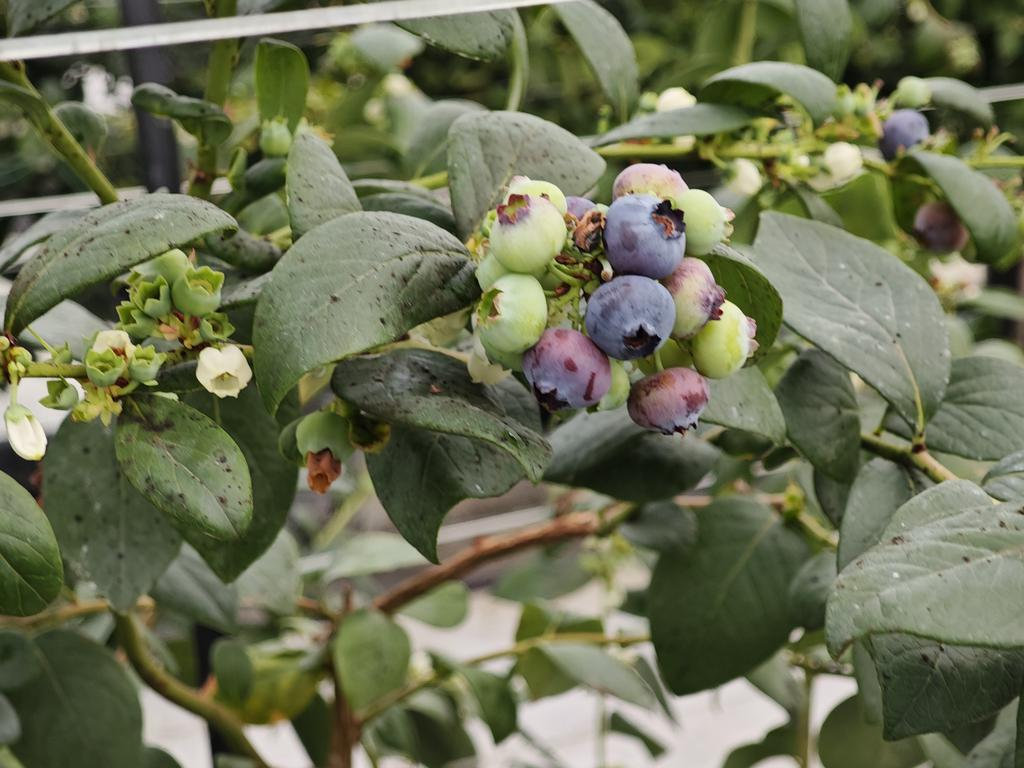RipeBlueBerry: (586, 273, 679, 362), (601, 193, 690, 278)
Semi-RipeBlueBerry: (525, 325, 613, 411), (626, 365, 712, 436)
UnripeBlueBerry: (490, 192, 569, 273), (474, 273, 549, 355)
